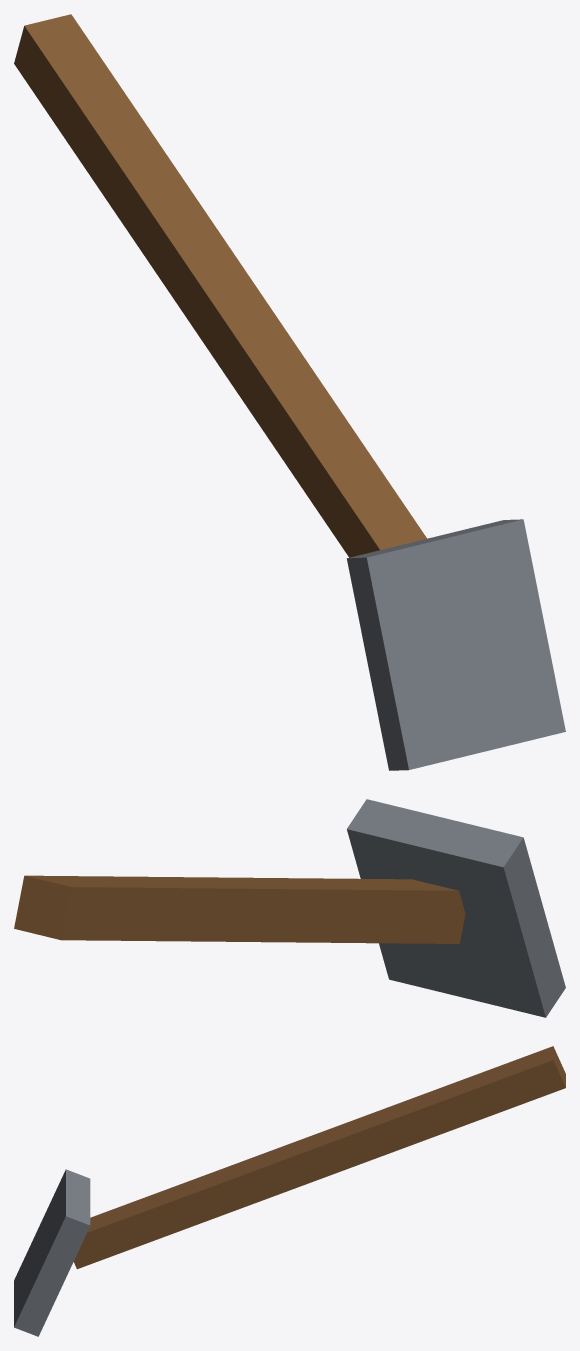
The model's file is tool_shovel.glb.
3 renders of one model, top to bottom at view 1: azimuth 30°, elevation 25°; view 2: azimuth 150°, elevation 25°; view 3: azimuth 270°, elevation 25°, orthographic. The views are drawn at different scales.
Visible parts, largest first — view 1: tool_shovel; view 2: tool_shovel; view 3: tool_shovel.
Part boxes in pixels (<box>): tool_shovel: <box>14,14,565,770</box>; tool_shovel: <box>14,799,565,1017</box>; tool_shovel: <box>14,1046,565,1336</box>.
Bounding box in the file's own units: 0.05 × 0.1293 × 0.2484.
